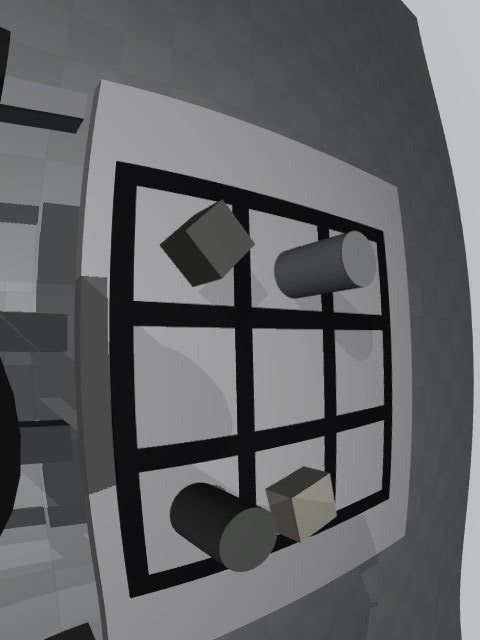can: (274, 230, 376, 299)
cube: (160, 199, 255, 287)
cylinder: (170, 483, 278, 572)
foam: (265, 467, 337, 543)
